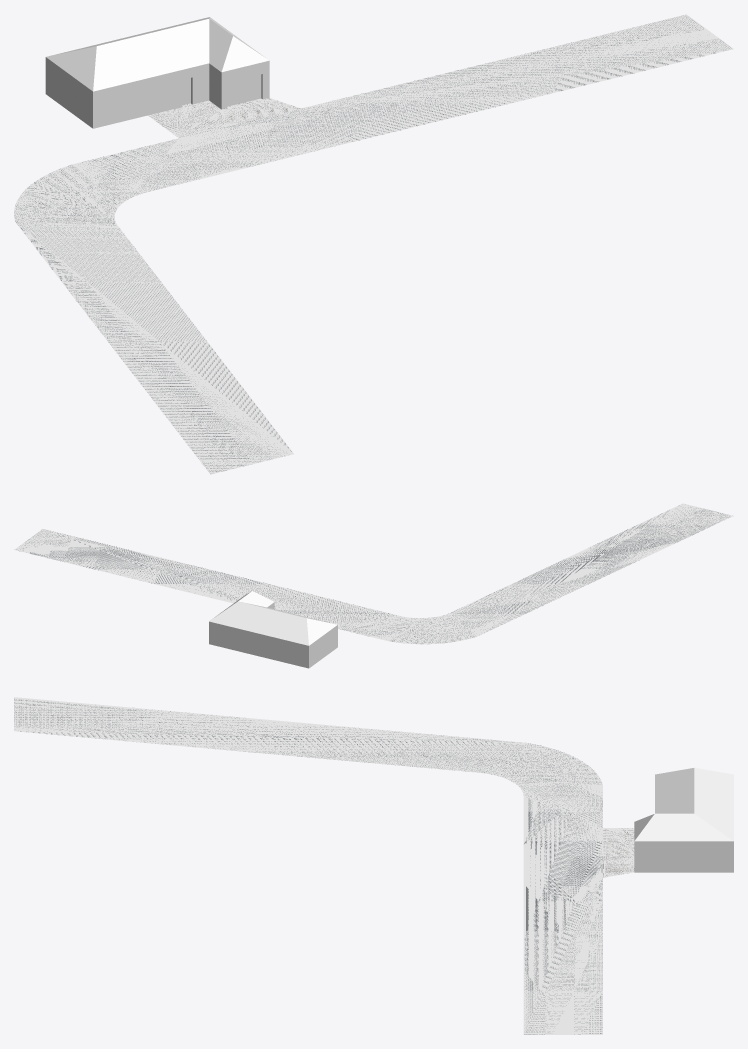
The model's file is neighbourhood.dae.
3 renders of one model, top to bottom at view 1: azimuth 30°, elevation 25°; view 2: azimuth 150°, elevation 25°; view 3: azimuth 270°, elevation 25°, orthographic. The views are drawn at different scales.
Visible parts, largest first — view 1: SketchUp (×4); view 2: SketchUp (×3); view 3: SketchUp (×4).
Part boxes in pixels (bbox=[...]): SketchUp (×4): bbox=[14, 14, 733, 474]; SketchUp (×3): bbox=[14, 503, 733, 668]; SketchUp (×4): bbox=[14, 697, 733, 1034].
Size of what is drawn, in the model's own units: 2386 by 2149 by 161.
